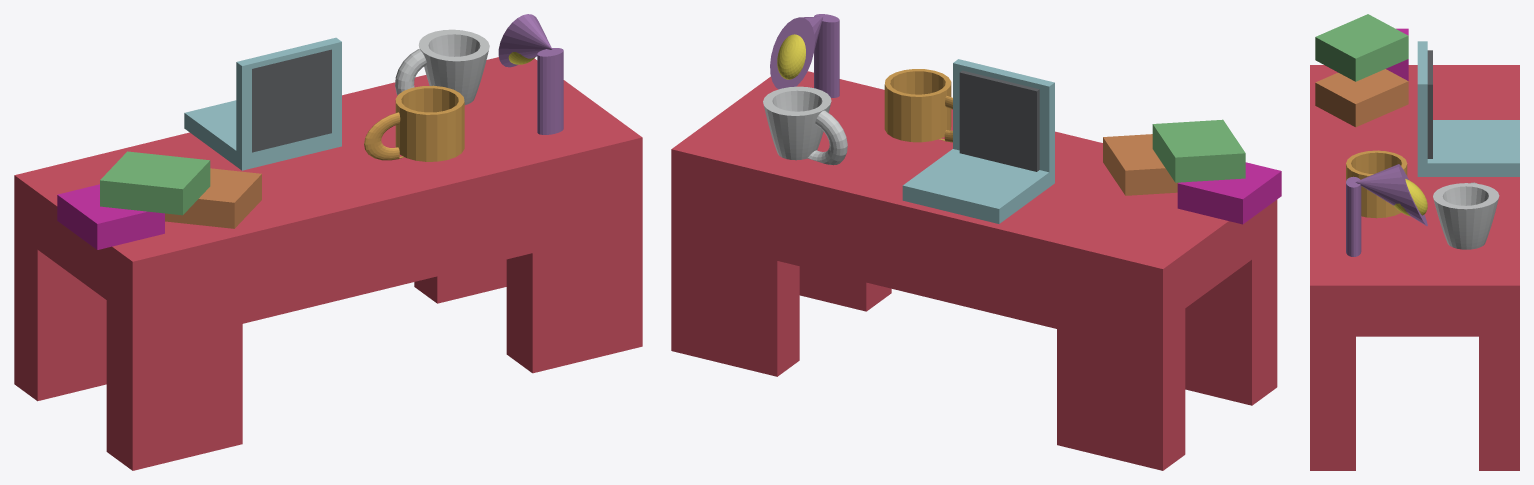
The model's file is C149 table model(sangeeta).glb.
The picture shows the model from 3 angles, left to right: view 1: azimuth 30°, elevation 25°; view 2: azimuth 150°, elevation 25°; view 3: azimuth 270°, elevation 25°; orthographic projection. The views are drawn at different scales.
Visible parts, largest first — view 1: Mesh_Mesh_head_geo.001_lambert2SG.001; view 2: Mesh_Mesh_head_geo.001_lambert2SG.001; view 3: Mesh_Mesh_head_geo.001_lambert2SG.001.
Part boxes in pixels (left/top/right/bottom): Mesh_Mesh_head_geo.001_lambert2SG.001: left=14, top=14, right=642, bottom=470; Mesh_Mesh_head_geo.001_lambert2SG.001: left=671, top=14, right=1281, bottom=470; Mesh_Mesh_head_geo.001_lambert2SG.001: left=1310, top=14, right=1519, bottom=470.
Size of the model in its own units: 106 by 61 by 41.
